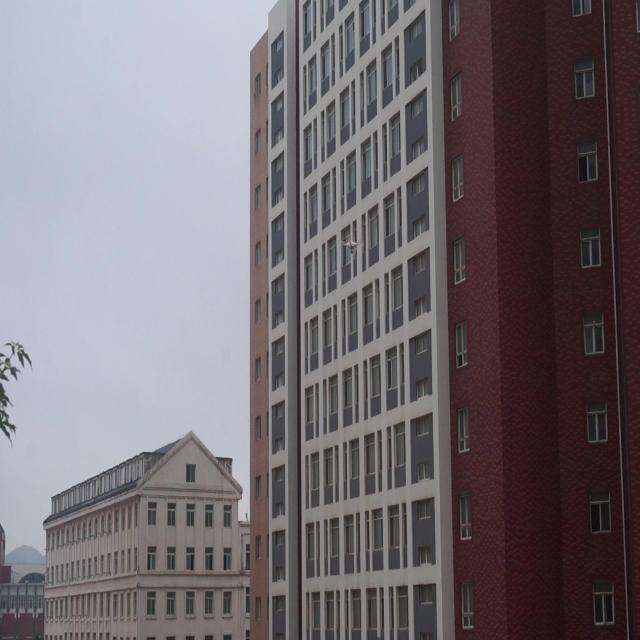drone: (340, 233, 363, 259)
